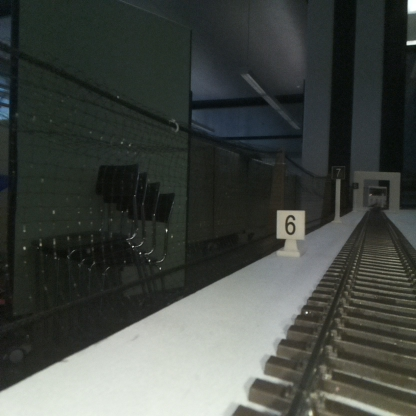black-info-7: (332, 165, 345, 222)
white-stop-6: (276, 210, 305, 252)
